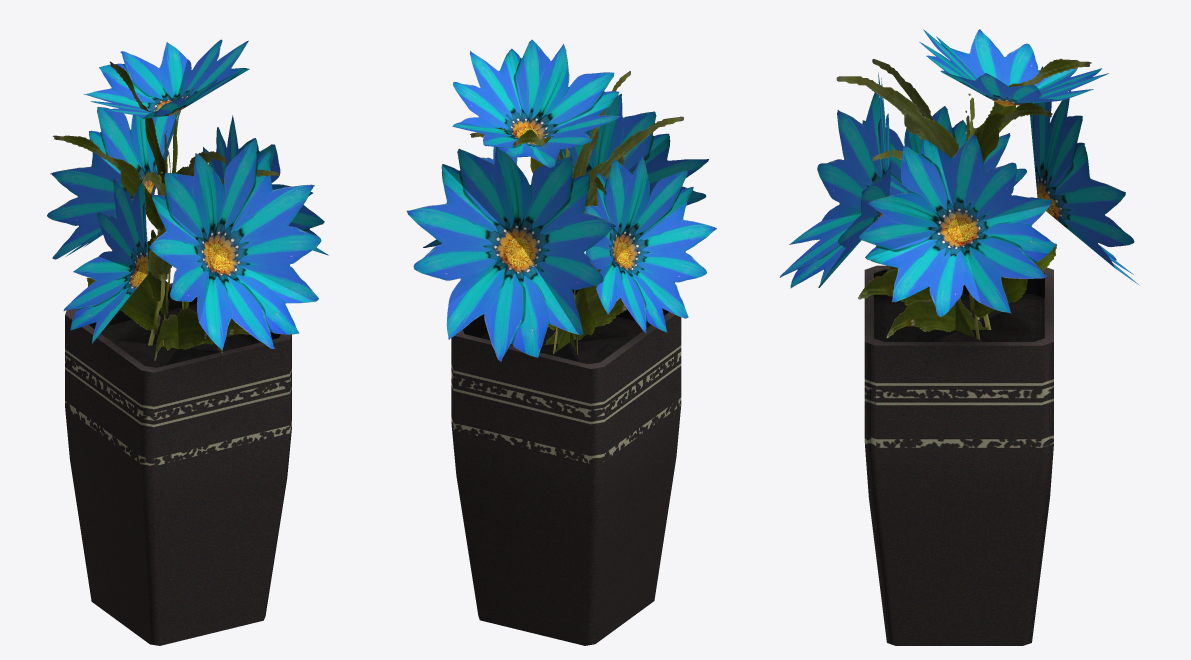
The model's file is Sun_0086_Table_centrepiece.fbx.
3 renders of one model, left to right at view 1: azimuth 30°, elevation 25°; view 2: azimuth 150°, elevation 25°; view 3: azimuth 270°, elevation 25°, orthographic. The views are drawn at different scales.
Visible parts, largest first — view 1: Sun_0086_Table_centrepiece; view 2: Sun_0086_Table_centrepiece; view 3: Sun_0086_Table_centrepiece.
Boxes of the visible parts, box(x1,y1,x2,y2) form: Sun_0086_Table_centrepiece: box(47, 39, 328, 645); Sun_0086_Table_centrepiece: box(406, 39, 716, 645); Sun_0086_Table_centrepiece: box(779, 29, 1139, 645).
Bounding box in the file's own units: 26.89 × 54.18 × 33.46.
